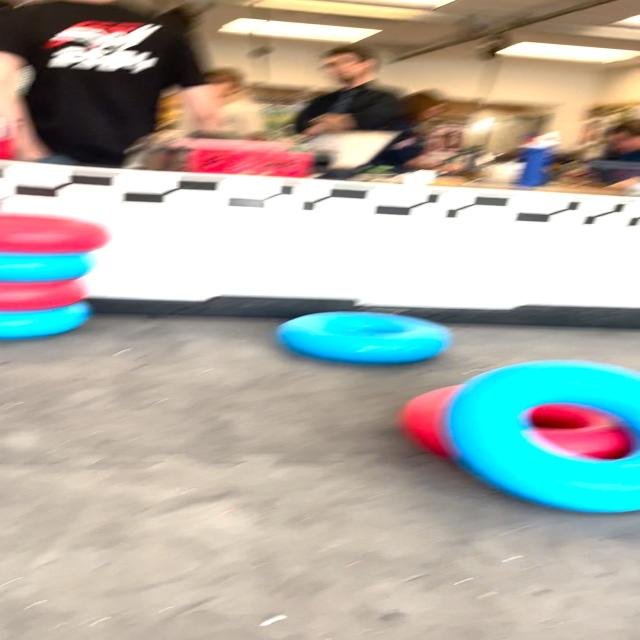Blue-Ring: (447, 360, 639, 512), (276, 311, 451, 364), (0, 301, 91, 338), (0, 252, 96, 281)
Red-Ring: (0, 214, 109, 252), (0, 279, 87, 311)
